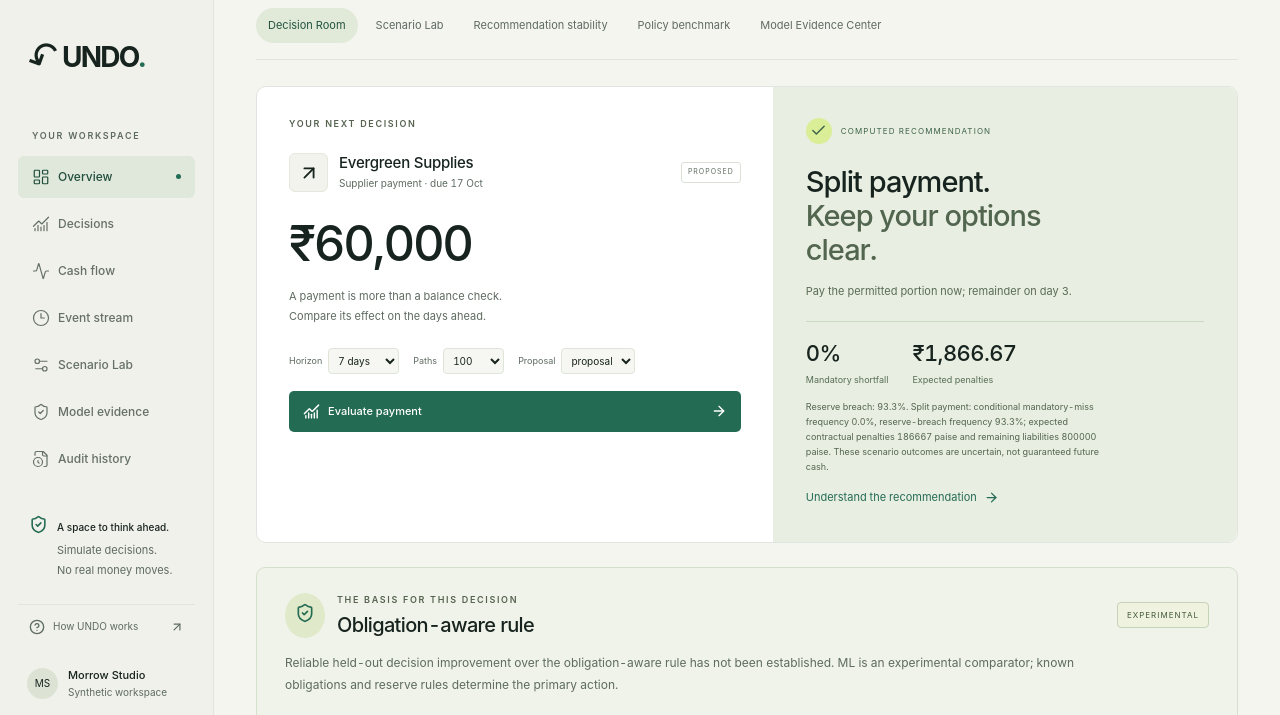
Lab inherits selected stable proposal and settings, visibly identifies target, and does not evaluate live state
(page scrolled)
Select "other" in the dropdown labelled "Proposal": (598, 361) [561,348,635,374]
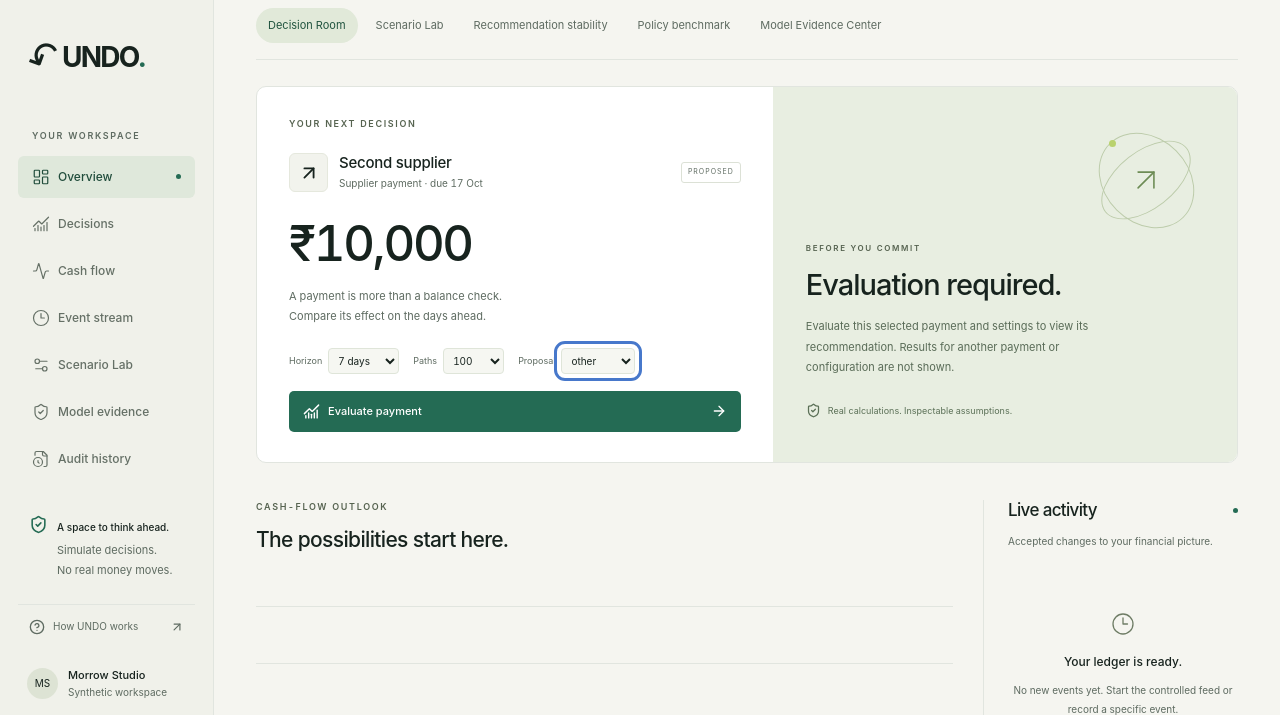
Select "14 days" in the dropdown named "Simulation horizon": (364, 361) [328,348,399,374]
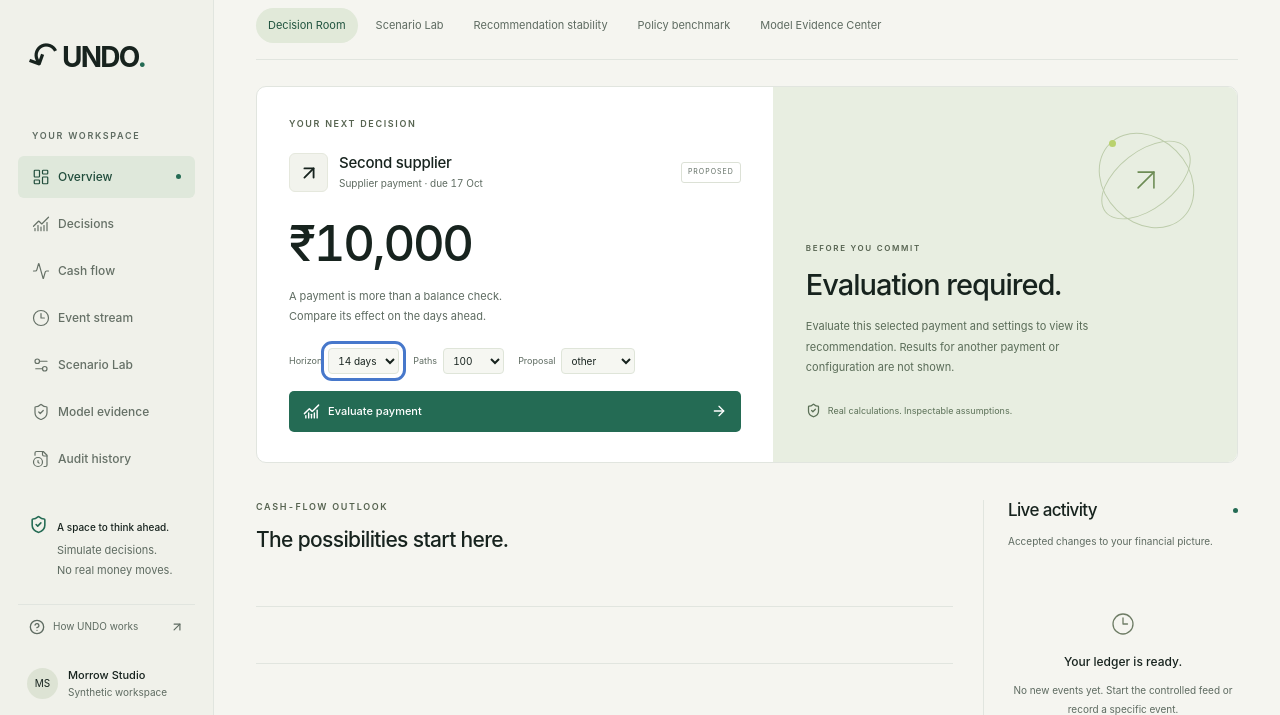
Select "1,000" in the dropdown named "Simulation paths": (474, 361) [443,348,504,374]
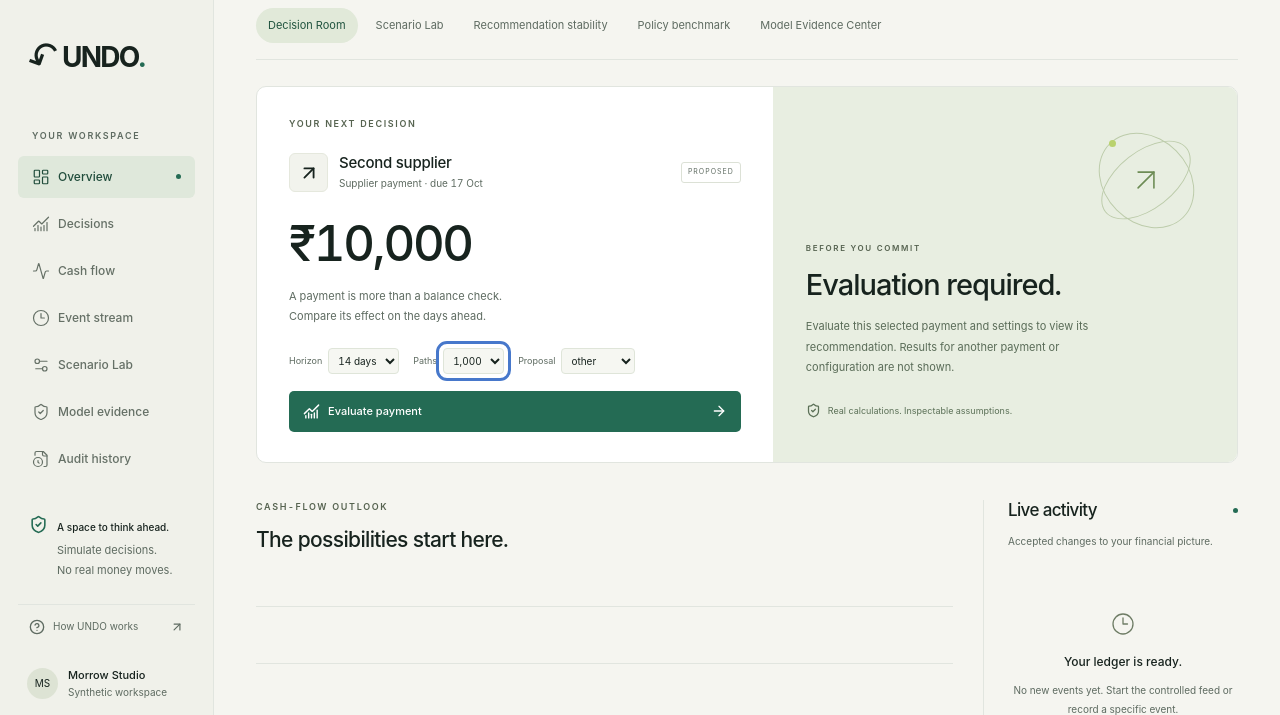
Click the button "Scenario Lab" below "YOUR WORKSPACE": (106, 364) [18,344,195,386]
(page scrolled)
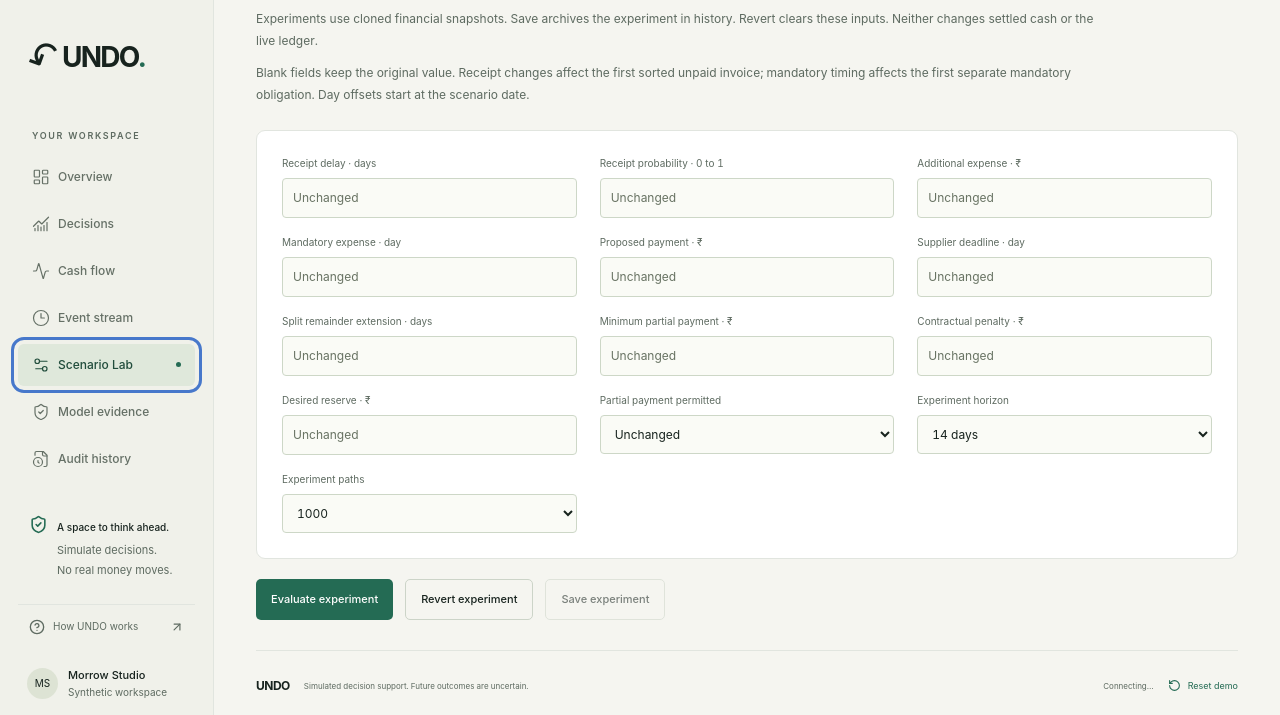
expect the dropdown labelled "Experiment horizon" shows "14 days": met, box [917,415,1212,454]
expect the dropdown labelled "Experiment paths" shows "1000": met, box [282,494,577,533]
